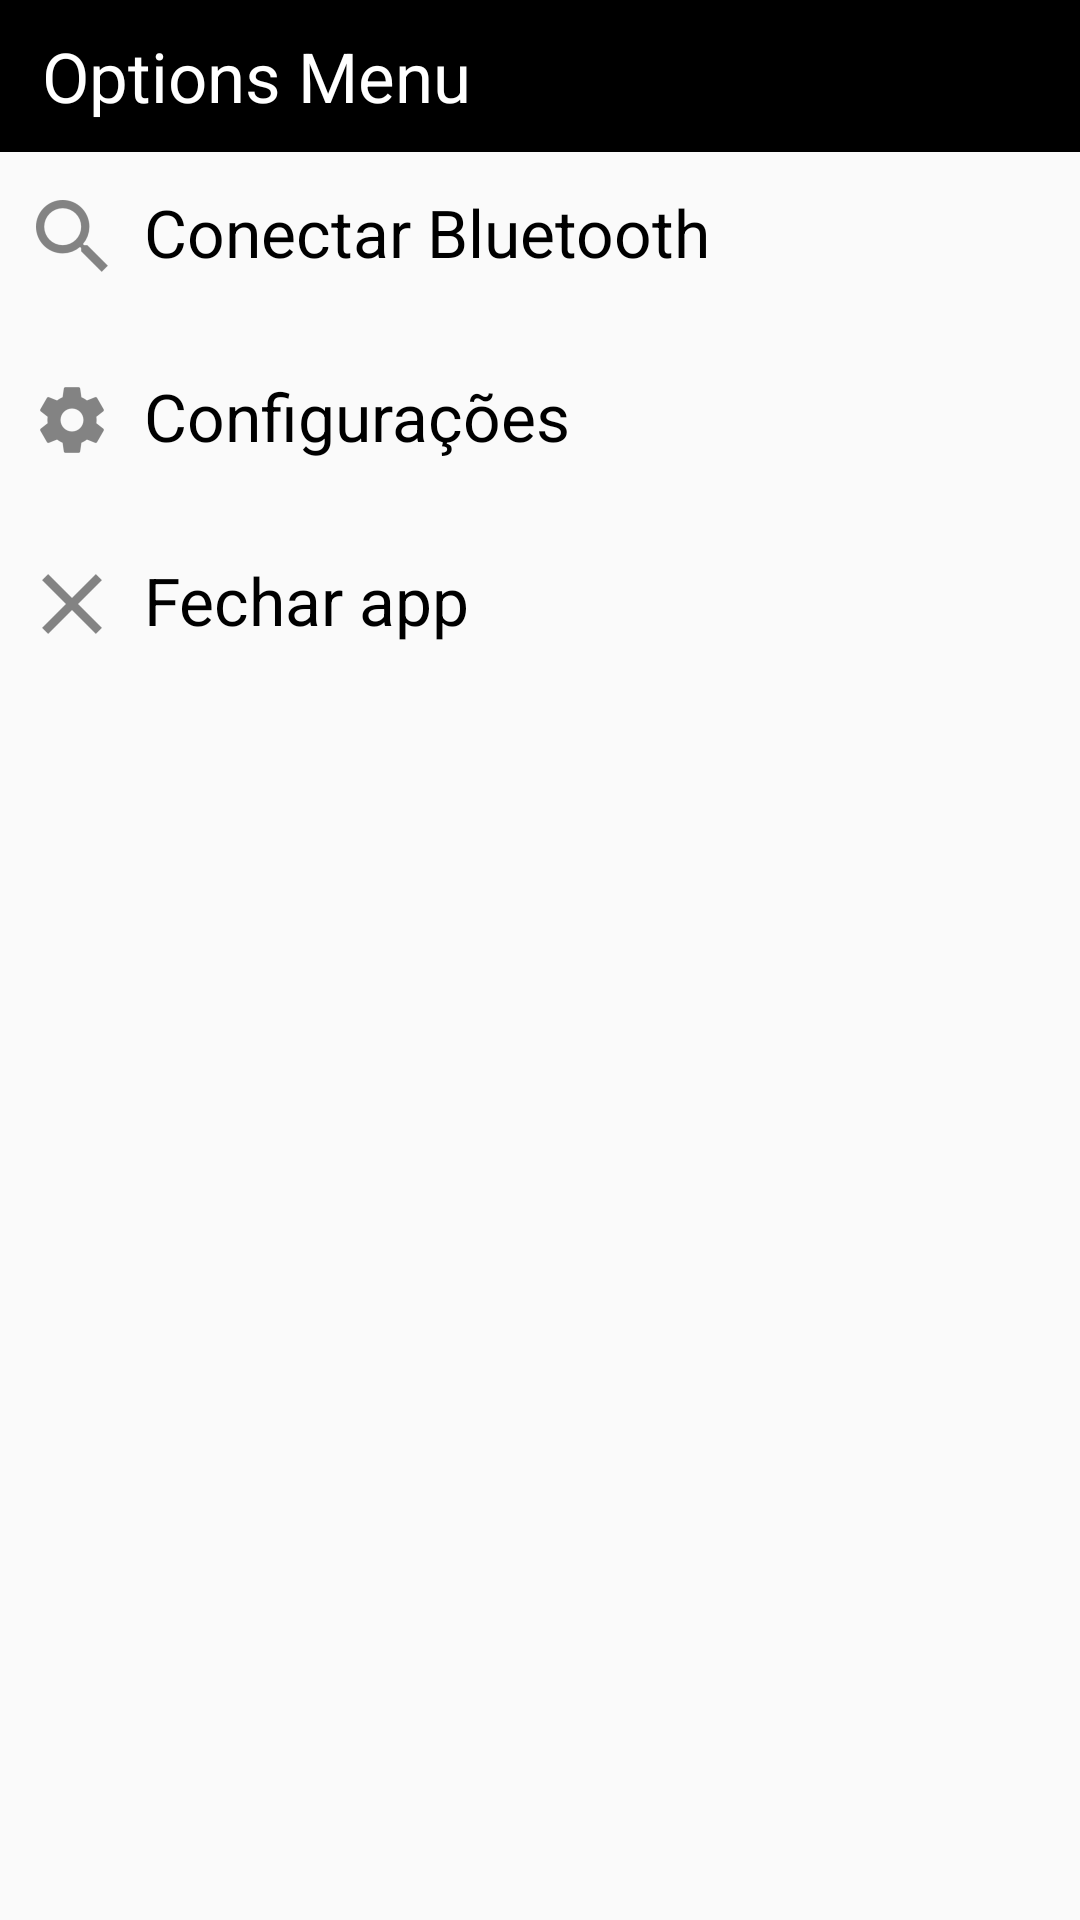

Named icons in this screenshot (1080*1920) and their centers, (x=x, y=y):
exit: (x=72, y=604)
search: (x=72, y=236)
settings: (x=72, y=420)
